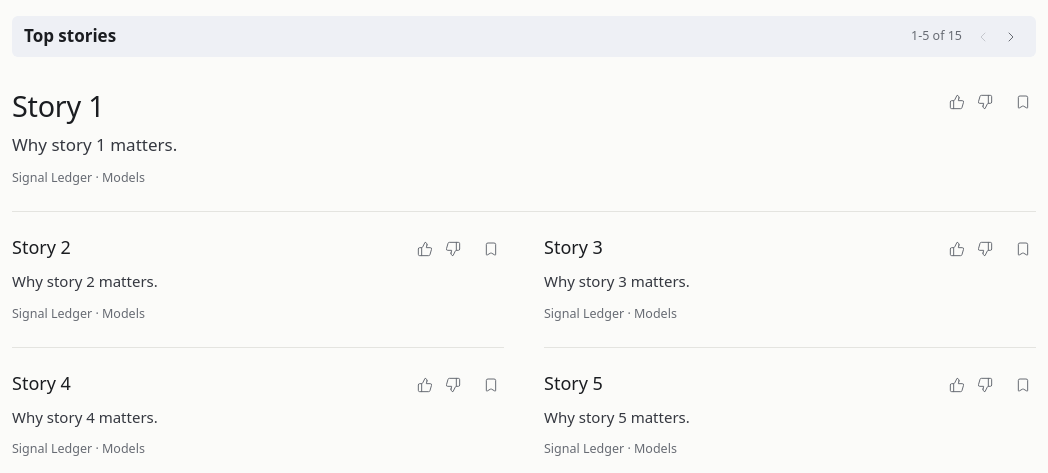
it: BriefSection › shows five stories on the first page of the top section and four on later pages
Check: the text "1-5 of 15" is shown, box top-left (911, 27), bottom-right (962, 46)
Click the button named "More stories in this section".
click(1011, 36)  # box top-left (998, 24), bottom-right (1024, 50)
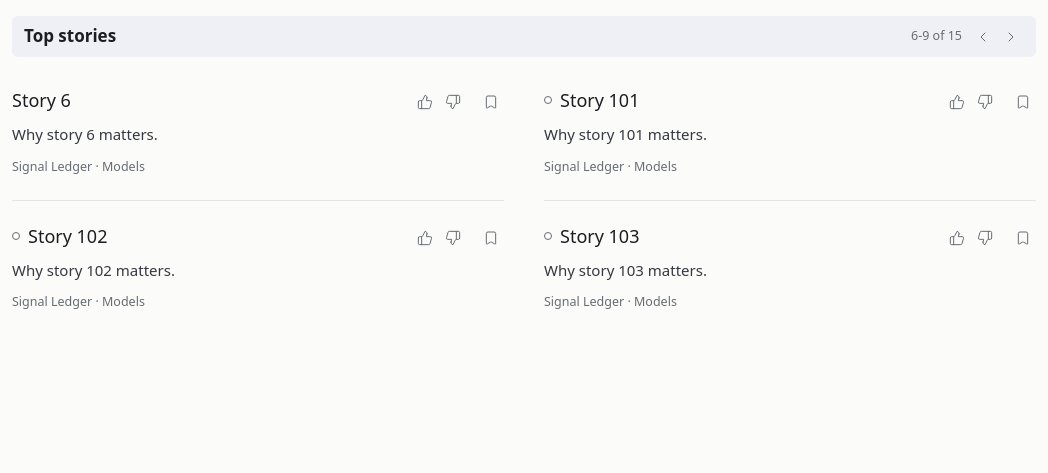
Check: the text "6-9 of 15" is shown, box top-left (911, 27), bottom-right (962, 46)
